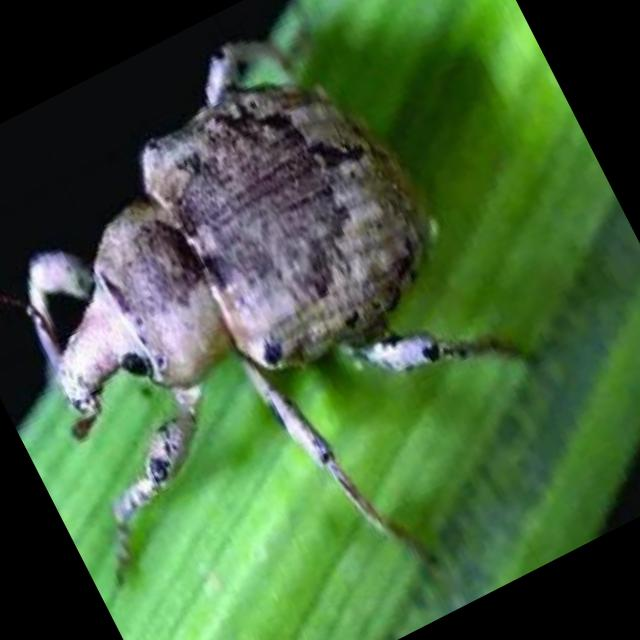rice-bug: (24, 24, 535, 579)
